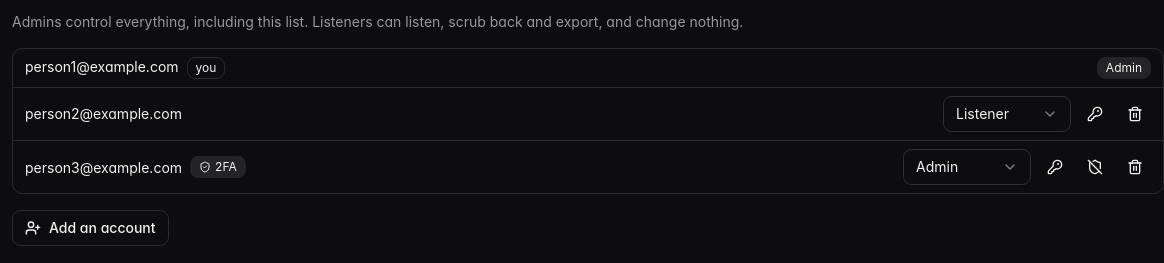
the access card with accounts › changing a role › stages the new role and marks the account unsaved, sending nothing
expect the text "person2@example.com" is shown: met, box [25,105,182,122]
Click the dropdown labelled "Listener".
click(1007, 114)  # box [943,96,1071,132]
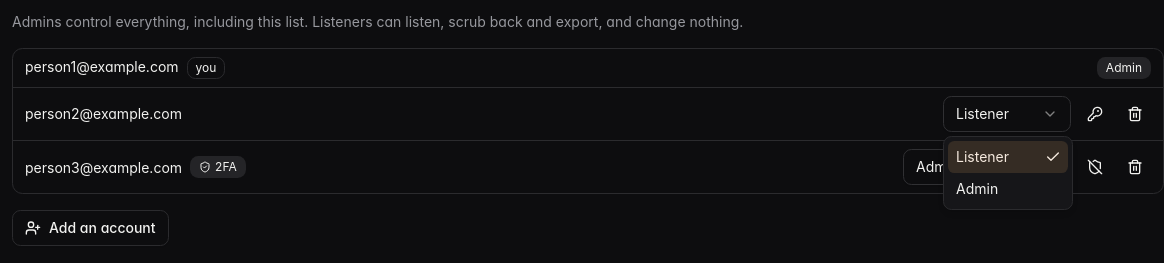
Click the option "Admin".
click(977, 188)  # box [956,180,998,197]
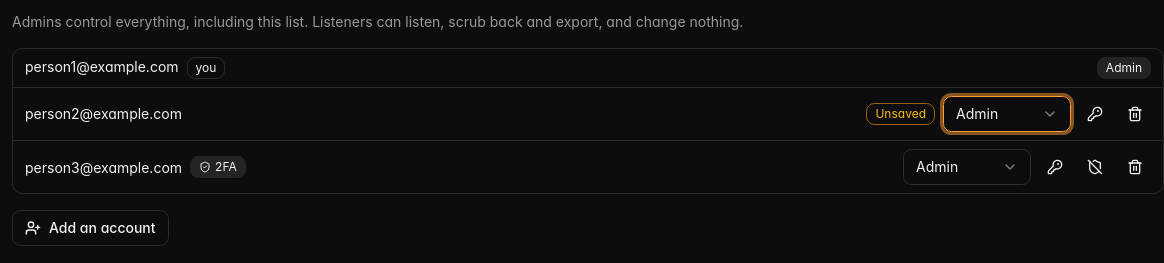
expect the dropdown labelled "Admin" in the row of "person2@example.com" is shown: met, box [943,96,1071,132]
expect the text "Unsaved" is shown: met, box [866,103,935,125]
